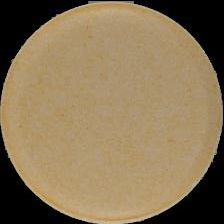0904-6178: (0, 0, 224, 224)
